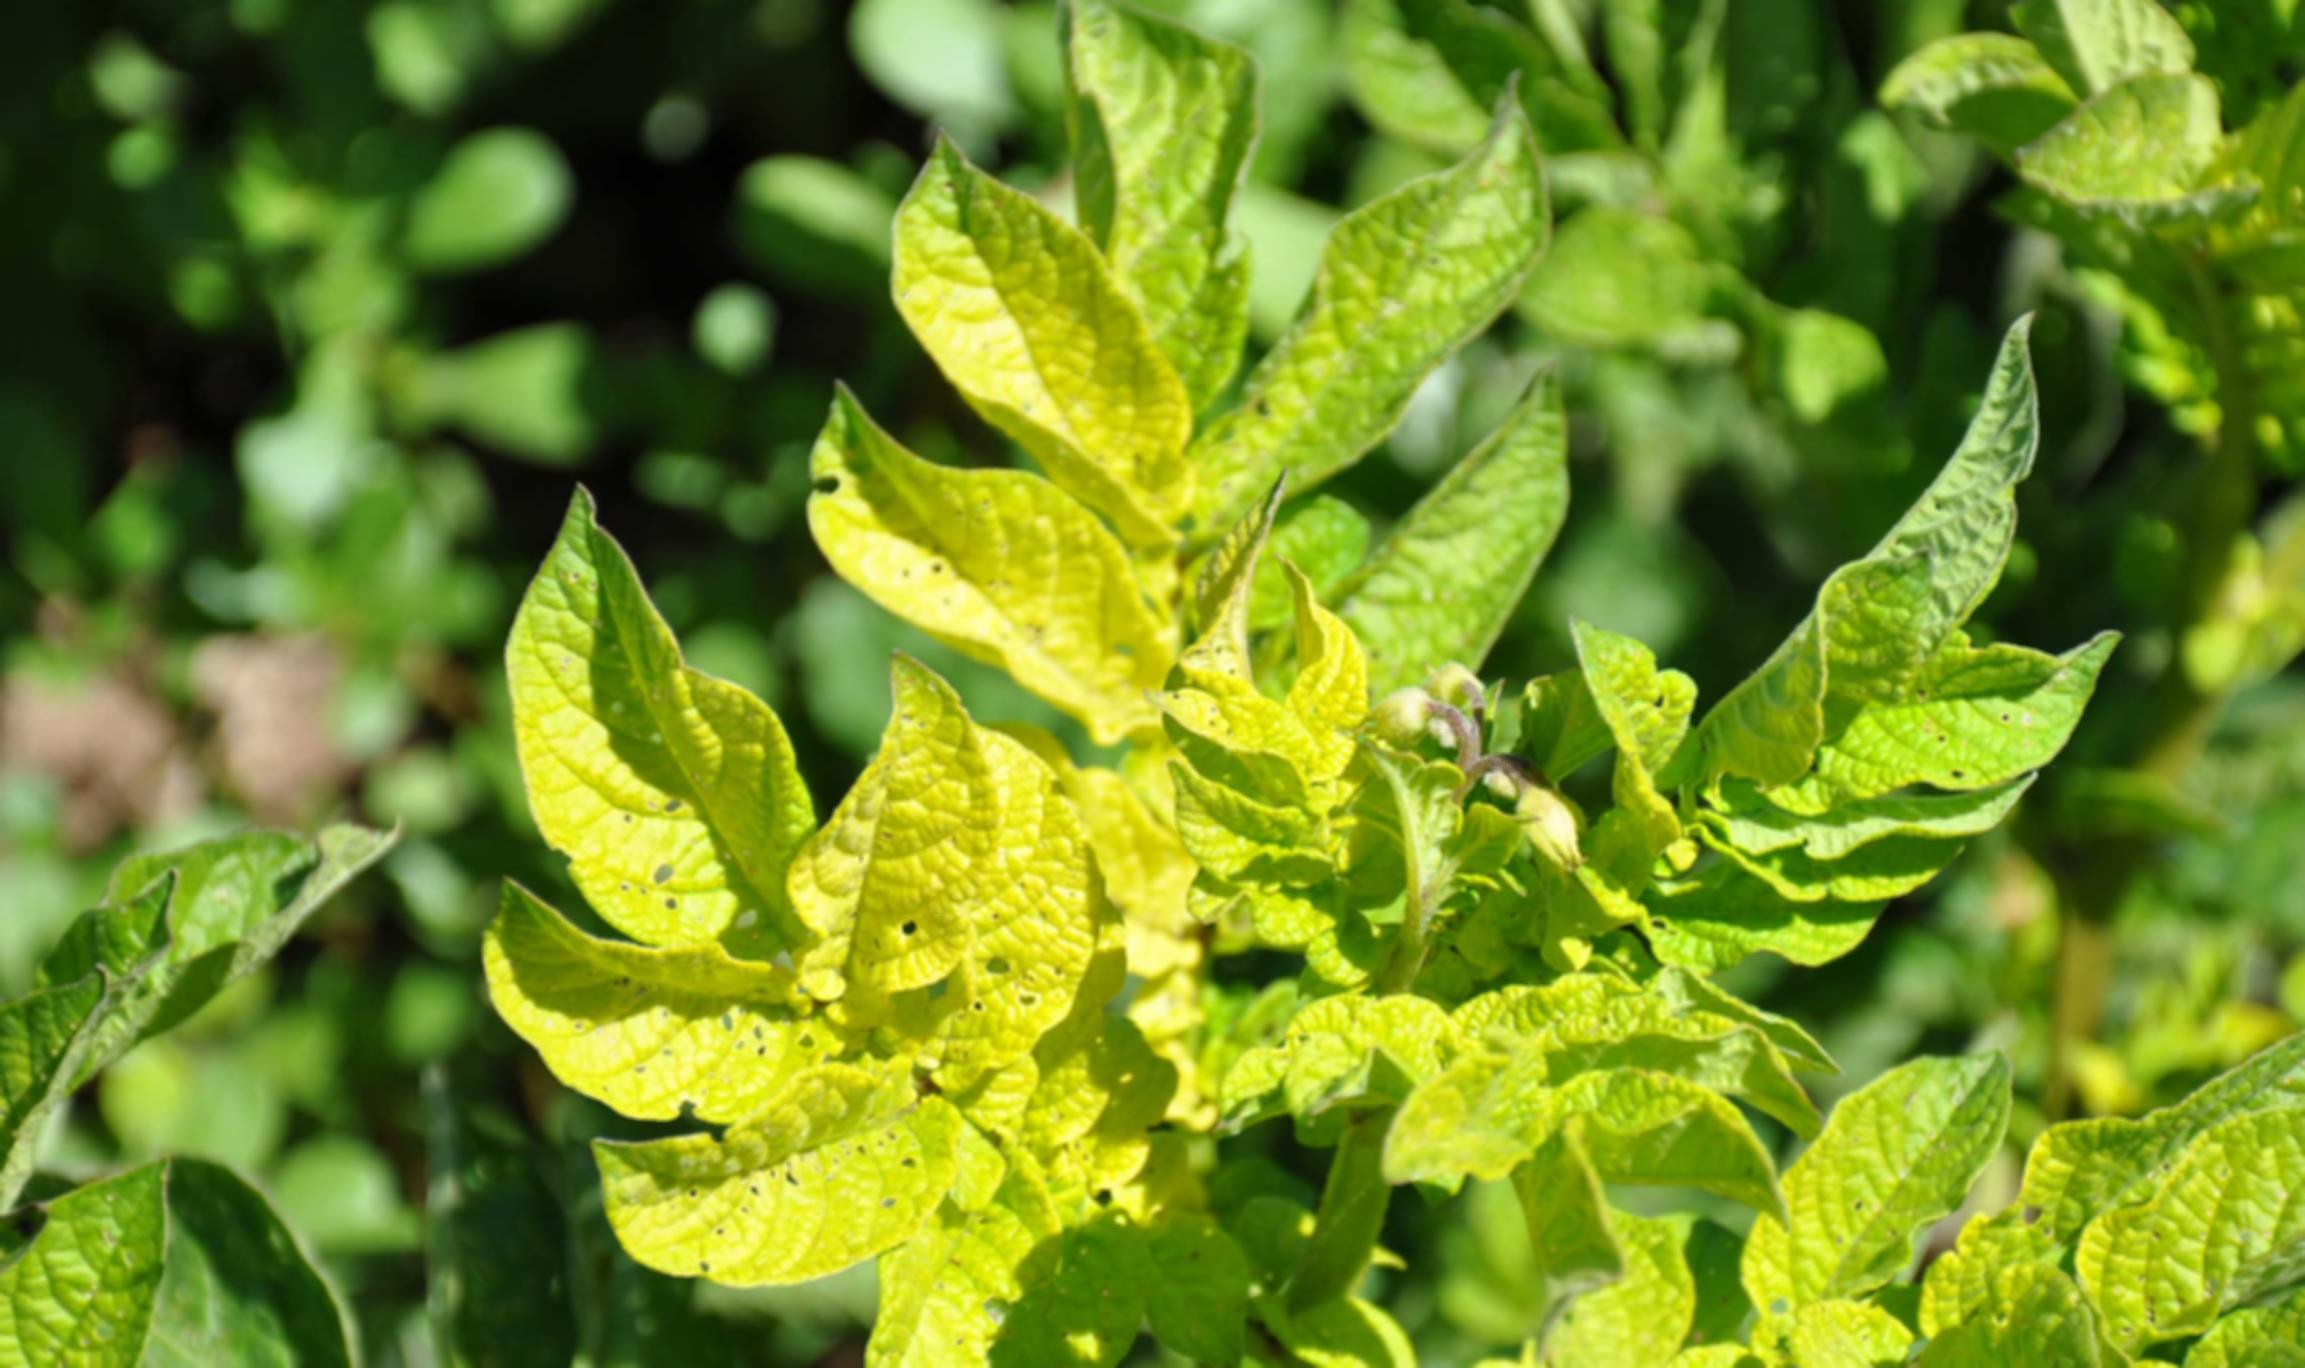Tomato leaf yellow virus: (431, 506, 839, 922), (1232, 63, 1596, 492), (1372, 945, 1851, 1267), (875, 136, 1225, 536), (784, 403, 1161, 769), (1701, 988, 2029, 1368), (1739, 585, 2141, 858), (802, 626, 1012, 1049), (2041, 1080, 2305, 1368), (0, 1110, 197, 1368)
